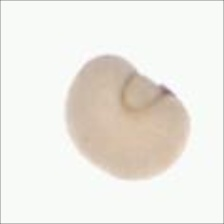L5: (120, 70, 171, 112)
L6: (64, 53, 192, 181)
